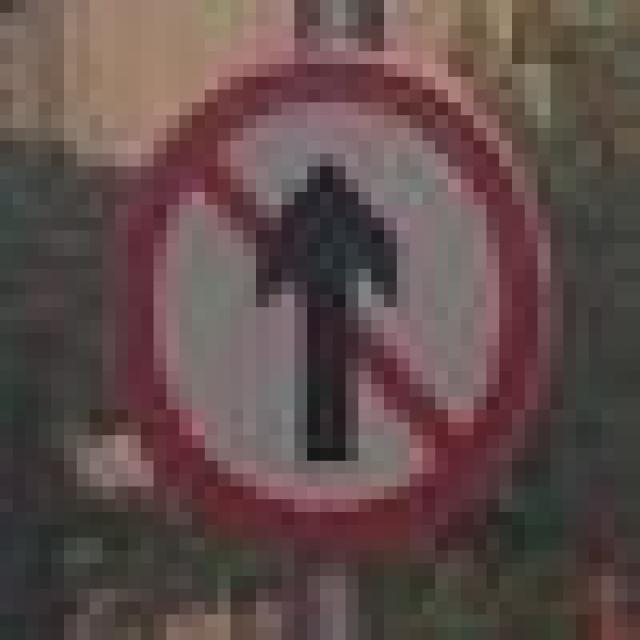straight prohibited: (108, 43, 563, 563)
